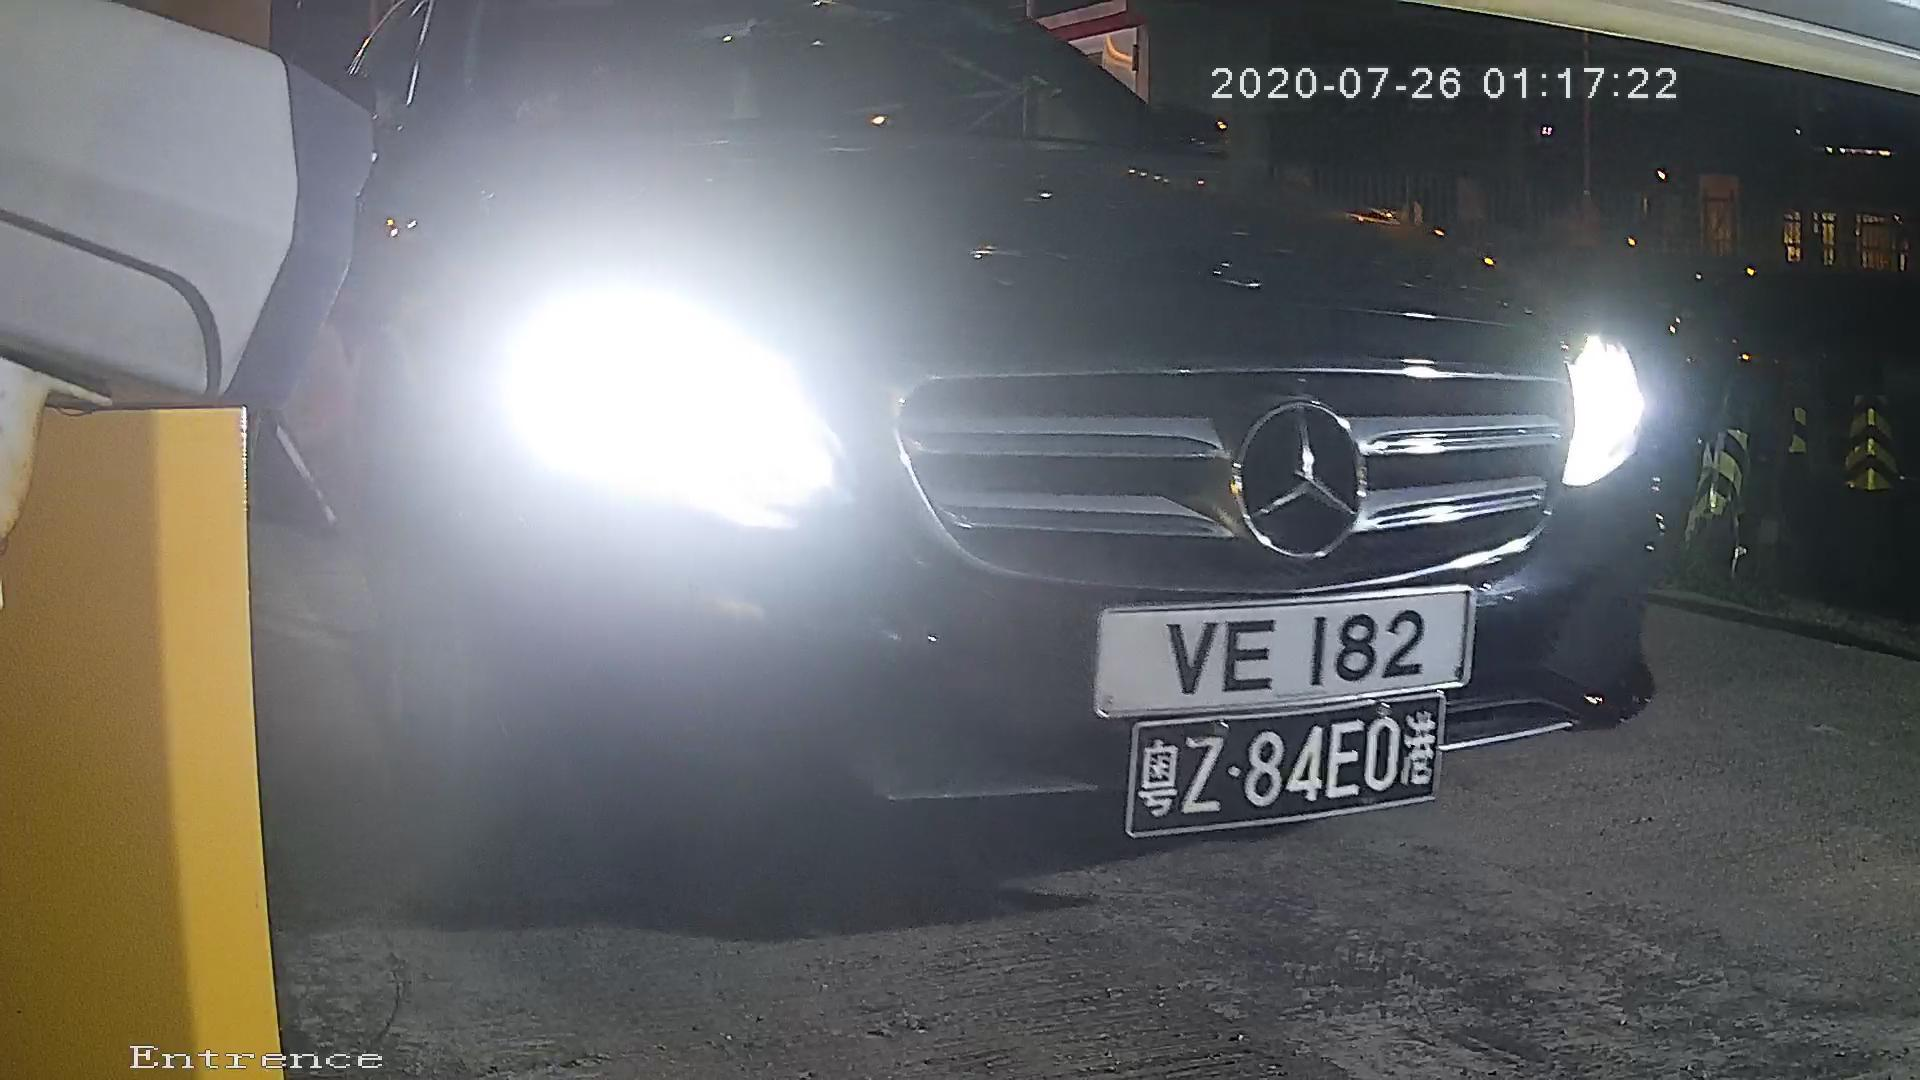privatecar: (326, 15, 1775, 955)
